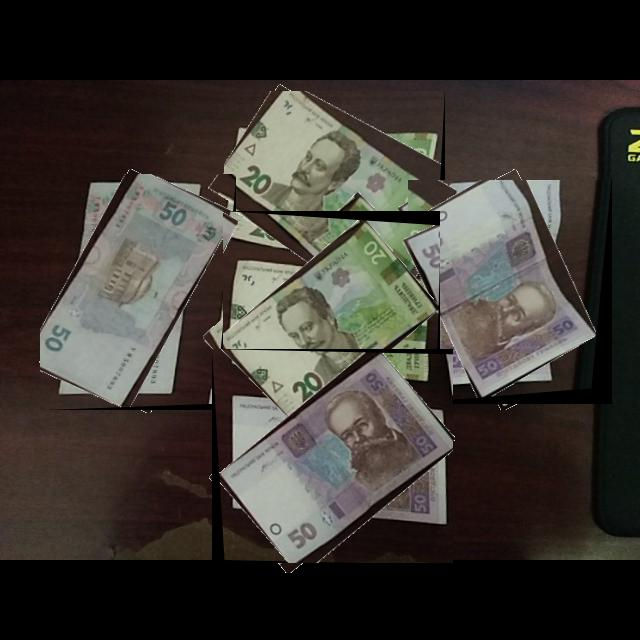20uah: (223, 219, 440, 419), (224, 91, 442, 288)
50uah: (218, 353, 454, 564), (40, 174, 234, 408), (408, 180, 600, 400)
